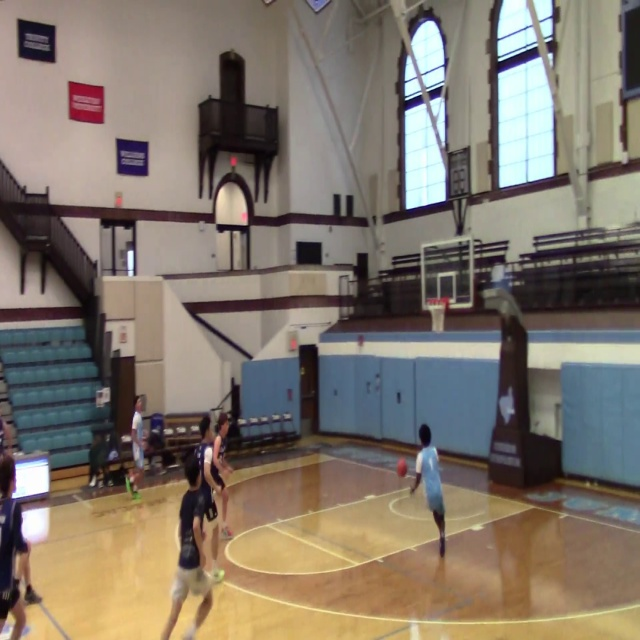Basketball: (396, 458, 407, 477)
